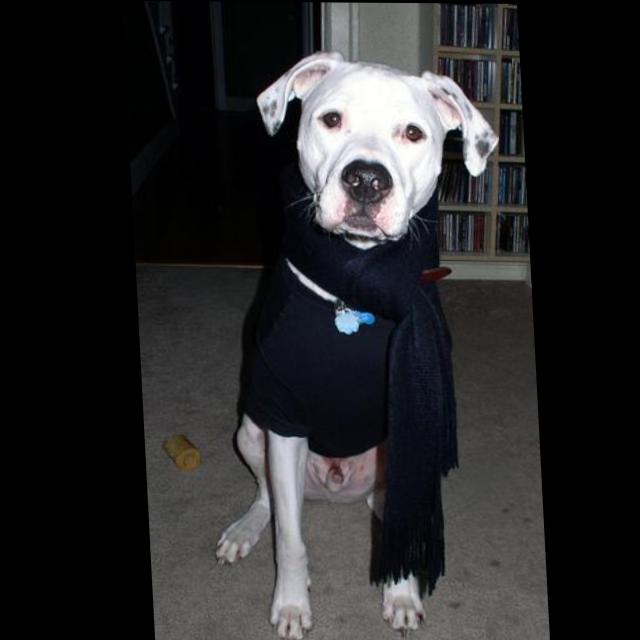amstaff: (191, 49, 521, 640)
